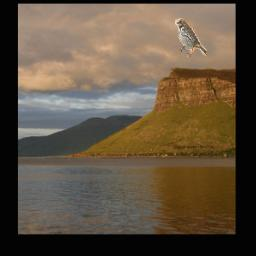Sparrow: (176, 19, 208, 58)
